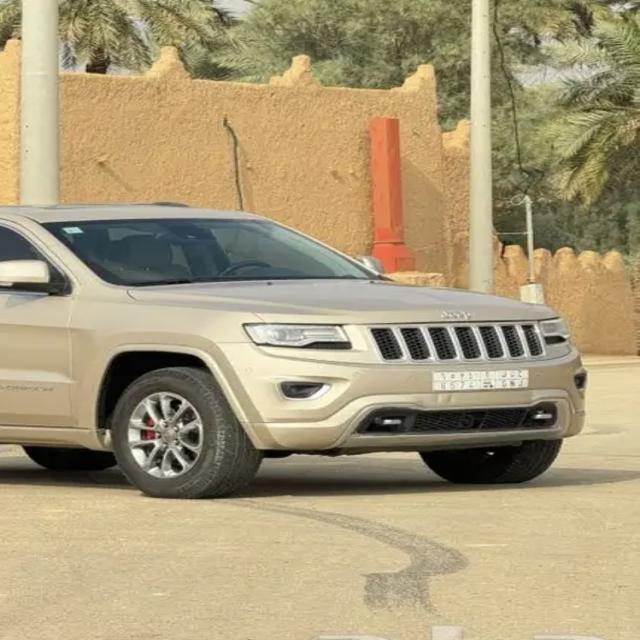license_plate: (432, 372, 532, 391)
